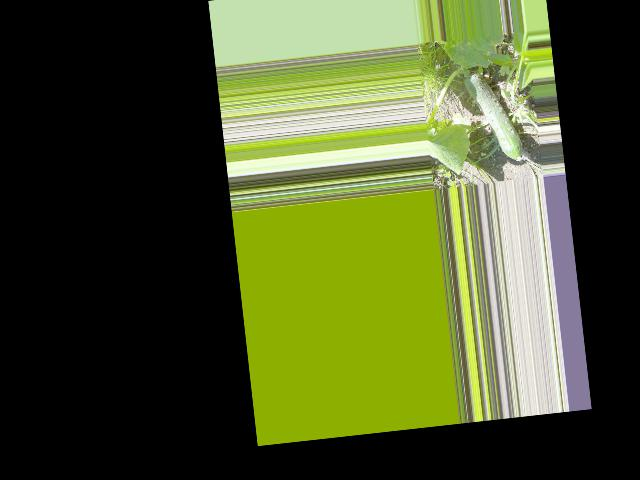cucumber: (463, 67, 524, 165)
